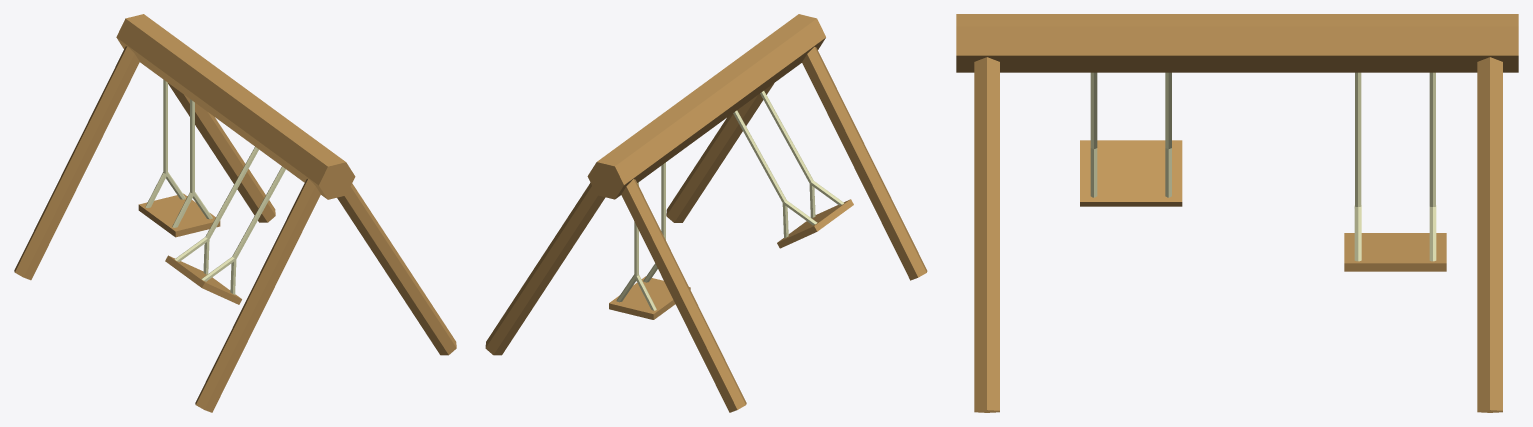
The model's file is low-poly-red-swing.fbx.
3 views of the same model, side by side, from view 1: azimuth 30°, elevation 25°; view 2: azimuth 150°, elevation 25°; view 3: azimuth 270°, elevation 25° (orthographic). The views are drawn at different scales.
Visible parts, largest first — view 1: Cylinder.002; view 2: Cylinder.002; view 3: Cylinder.002.
Part boxes in pixels (<box>): Cylinder.002: <box>14,14,456,412</box>; Cylinder.002: <box>485,14,927,412</box>; Cylinder.002: <box>956,14,1518,412</box>.
Bounding box in the file's own units: 131 × 109 × 177.
